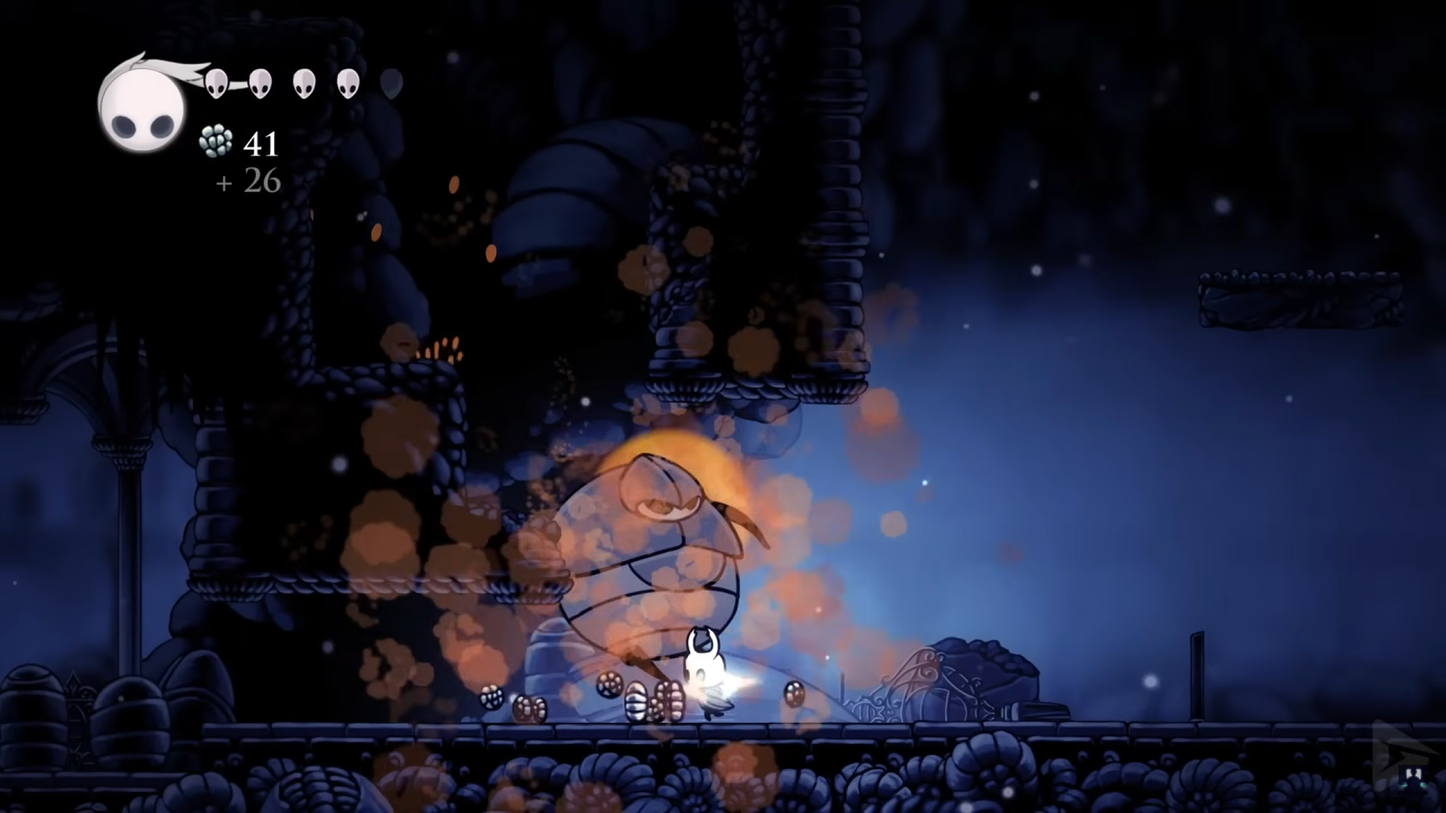HK: (679, 621, 736, 725)
